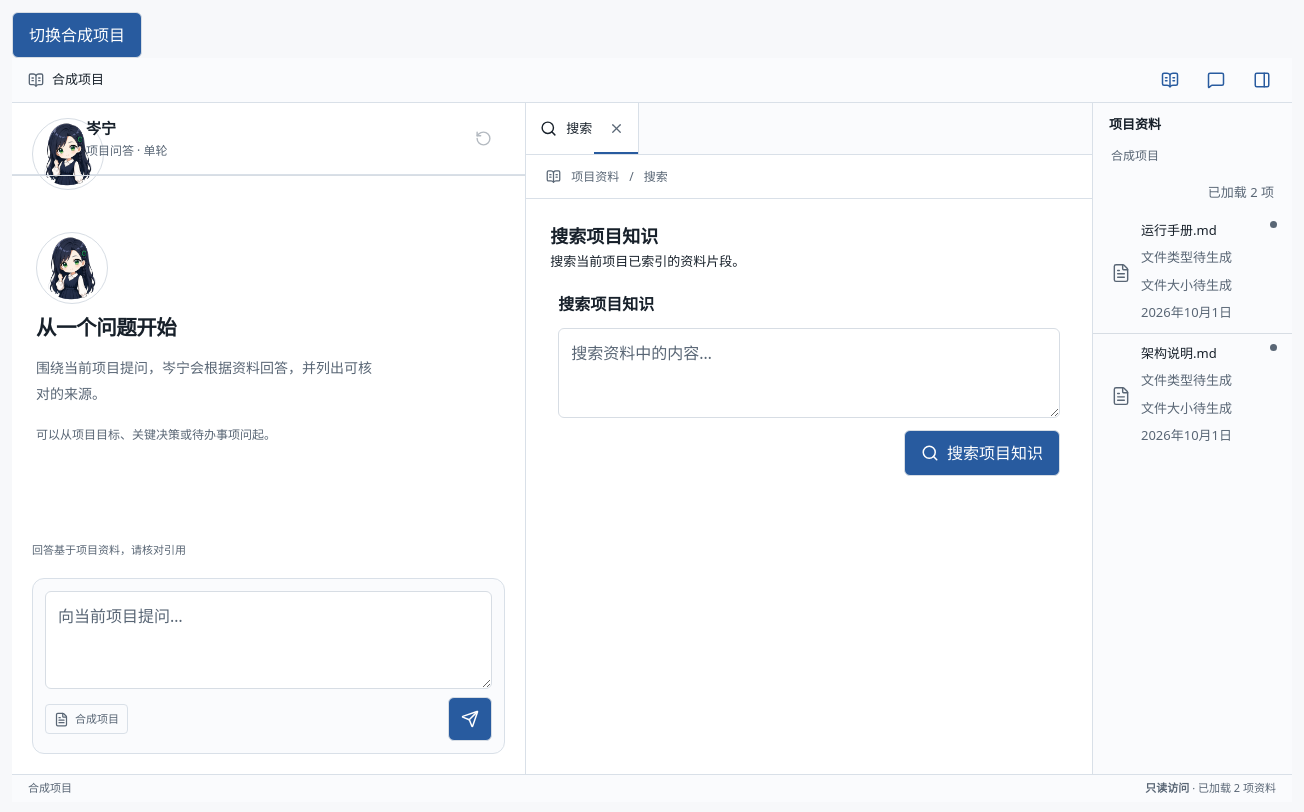
Test: opening a resource restores a collapsed reader without hiding the conversation
Step 1. Click the button named "收起阅读区" → (1262, 80), box left=1240, top=58, right=1284, bottom=102
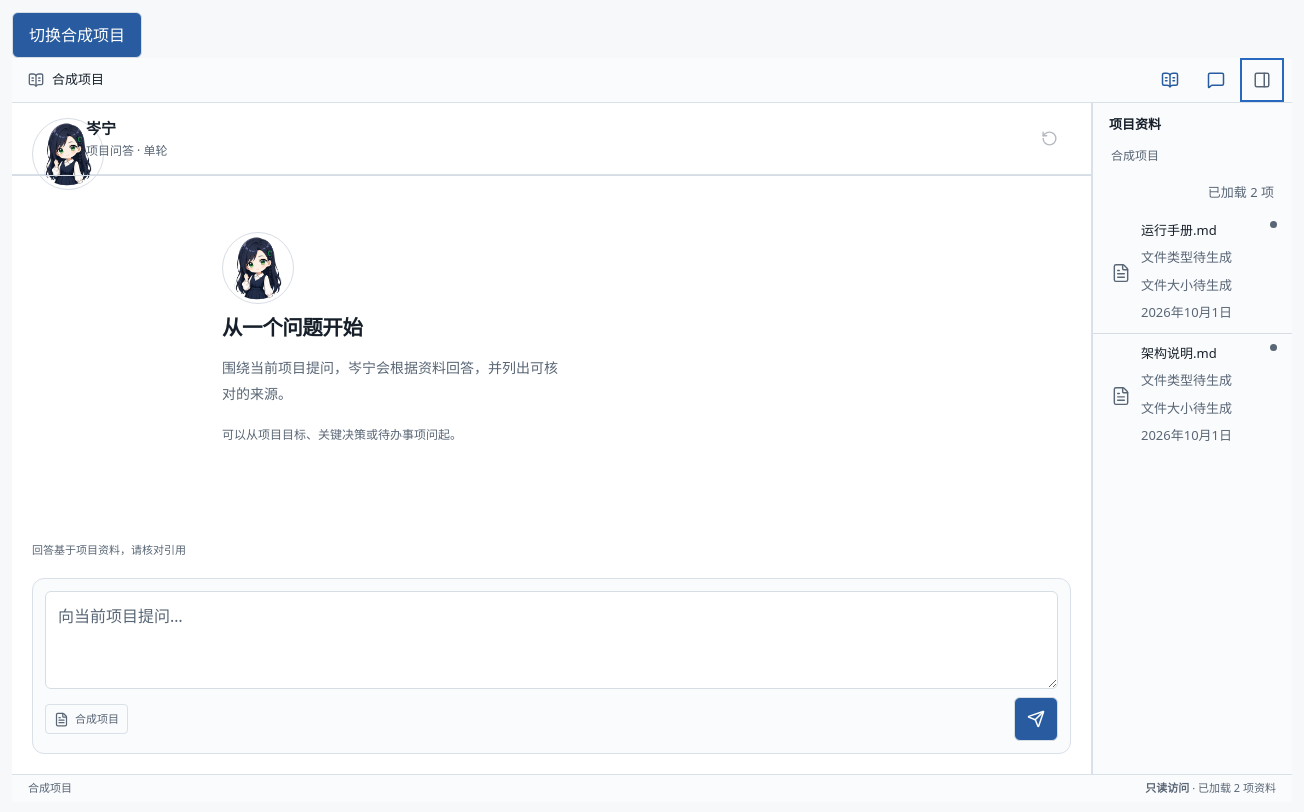
Now the element "知识内容" is gone
Step 2. Click the button with aria-label "查看运行手册.md资料详情" → (1192, 272), box left=1093, top=210, right=1292, bottom=332
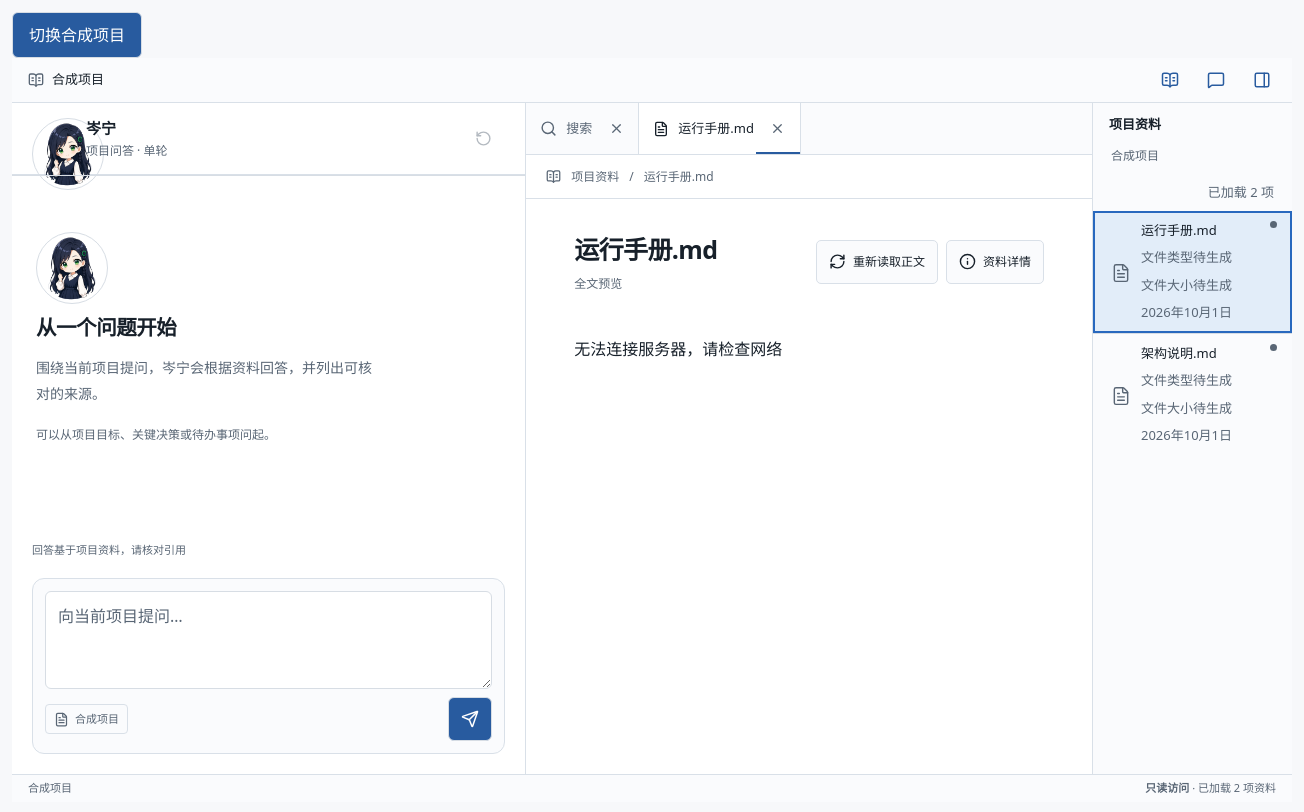
Expected: the element named "岑宁问答面板" is shown, left=12, top=103, right=526, bottom=774
Now the element named "知识内容" is shown, box left=526, top=103, right=1092, bottom=774
